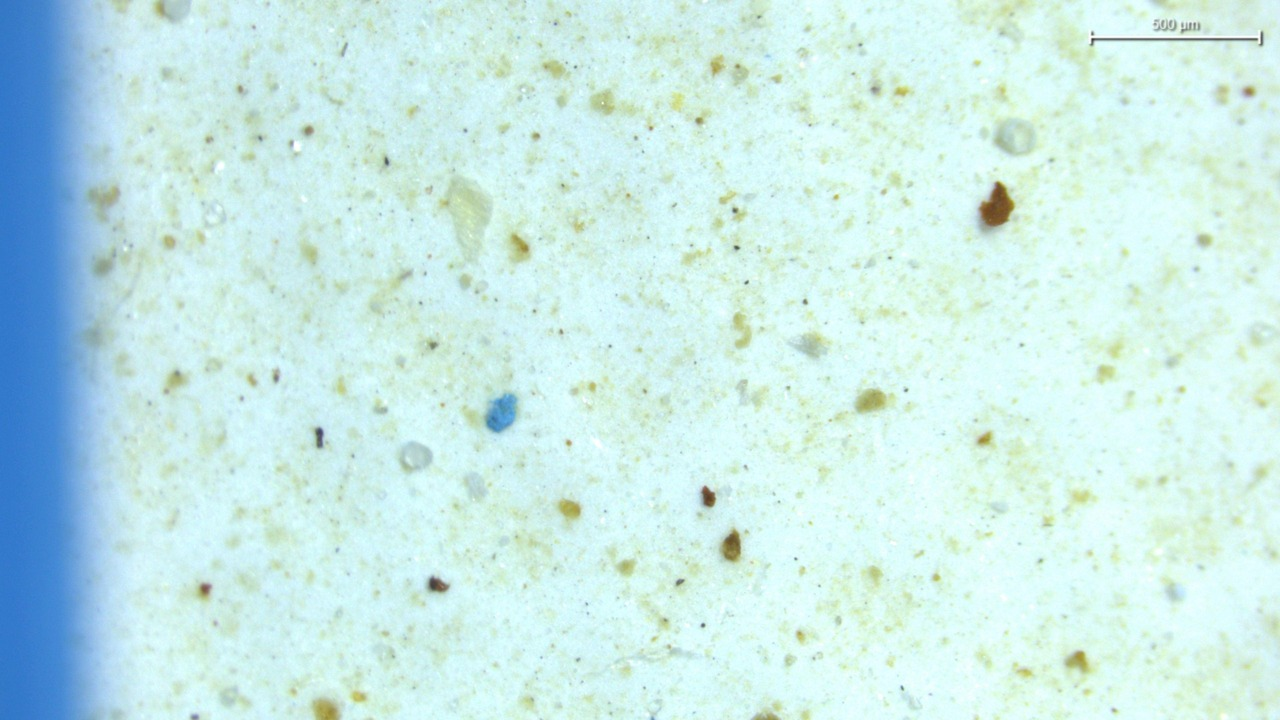microplastic_fragment: (445, 175, 492, 261), (486, 394, 517, 432), (789, 333, 826, 358), (464, 472, 487, 500)
